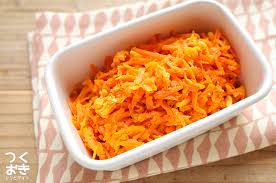carrot_eggs: (59, 17, 254, 157), (80, 78, 174, 150), (121, 54, 208, 130), (166, 33, 237, 102)
